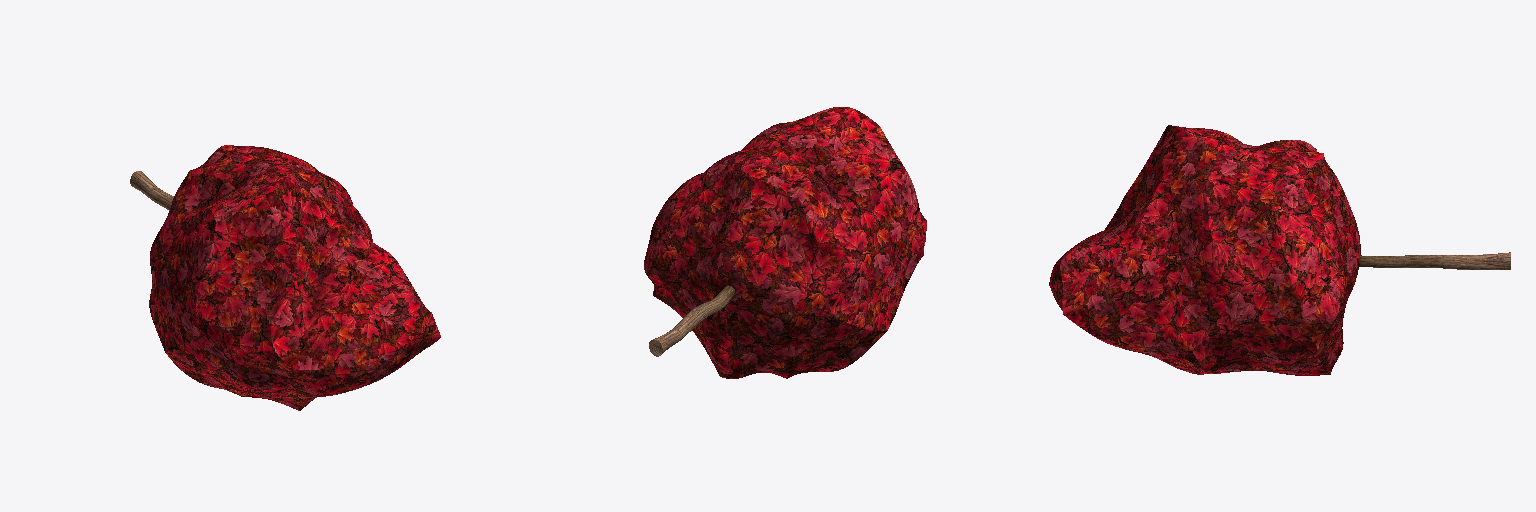
3 renders of one model, left to right at view 1: azimuth 30°, elevation 25°; view 2: azimuth 150°, elevation 25°; view 3: azimuth 270°, elevation 25°, orthographic.
Parts seen in each view (by area): view 1: 10451_Red_Maple_Tree_v1_SG; view 2: 10451_Red_Maple_Tree_v1_SG; view 3: 10451_Red_Maple_Tree_v1_SG.
Part boxes in pixels (x1,y1,x2,y2): 10451_Red_Maple_Tree_v1_SG: (130,145,440,410); 10451_Red_Maple_Tree_v1_SG: (644,107,926,378); 10451_Red_Maple_Tree_v1_SG: (1049,125,1510,375).
Bounding box in the file's own units: 139 × 145 × 259.
Materials: 1 (1 with a texture image).